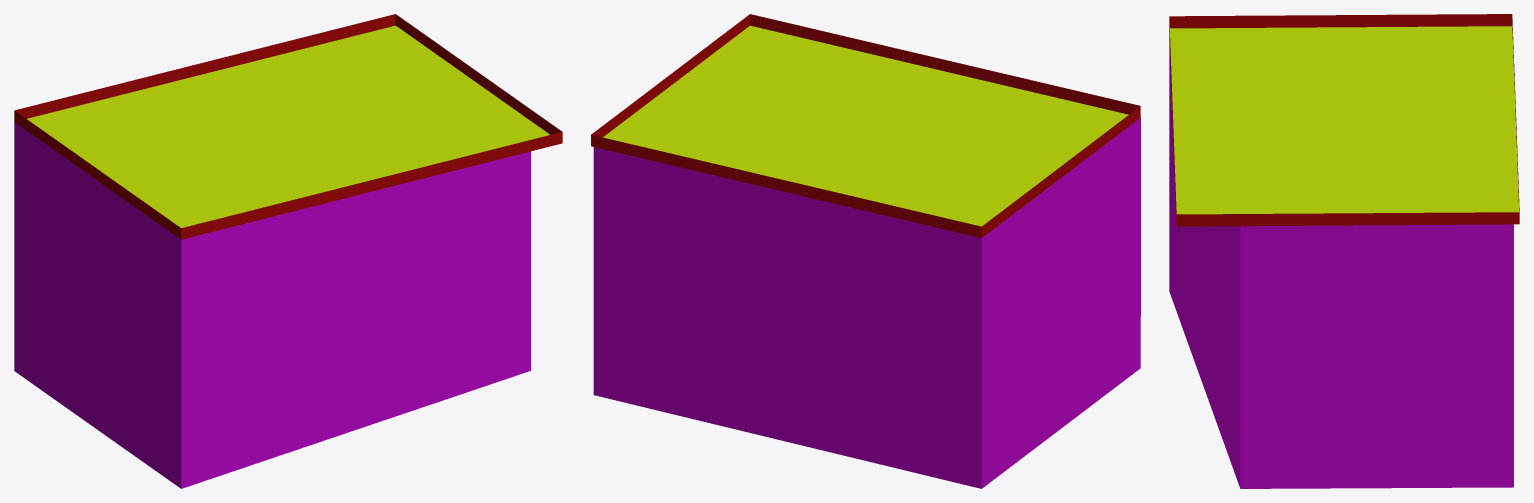
Rendered from niv_127.glb.
3 views of the same model, side by side, from view 1: azimuth 30°, elevation 25°; view 2: azimuth 150°, elevation 25°; view 3: azimuth 270°, elevation 25° (orthographic). The views are drawn at different scales.
Visible parts, largest first — view 1: niv_127; view 2: niv_127; view 3: niv_127.
Part boxes in pixels (x1,y1,x2,y2): niv_127: (14, 14, 562, 488); niv_127: (591, 14, 1140, 488); niv_127: (1169, 14, 1519, 488).
Size of the model in its own units: 12.33 by 7.89 by 9.1.
